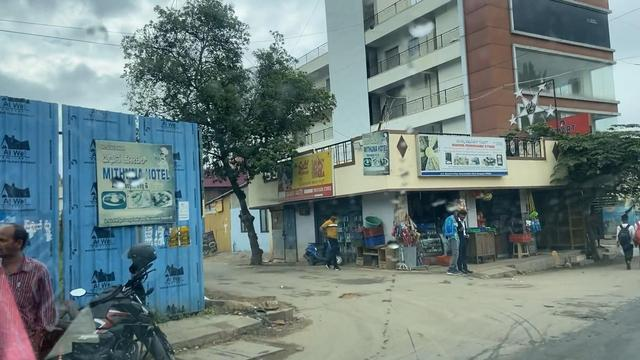RoadDamages: (202, 330, 293, 360), (253, 284, 296, 330)
